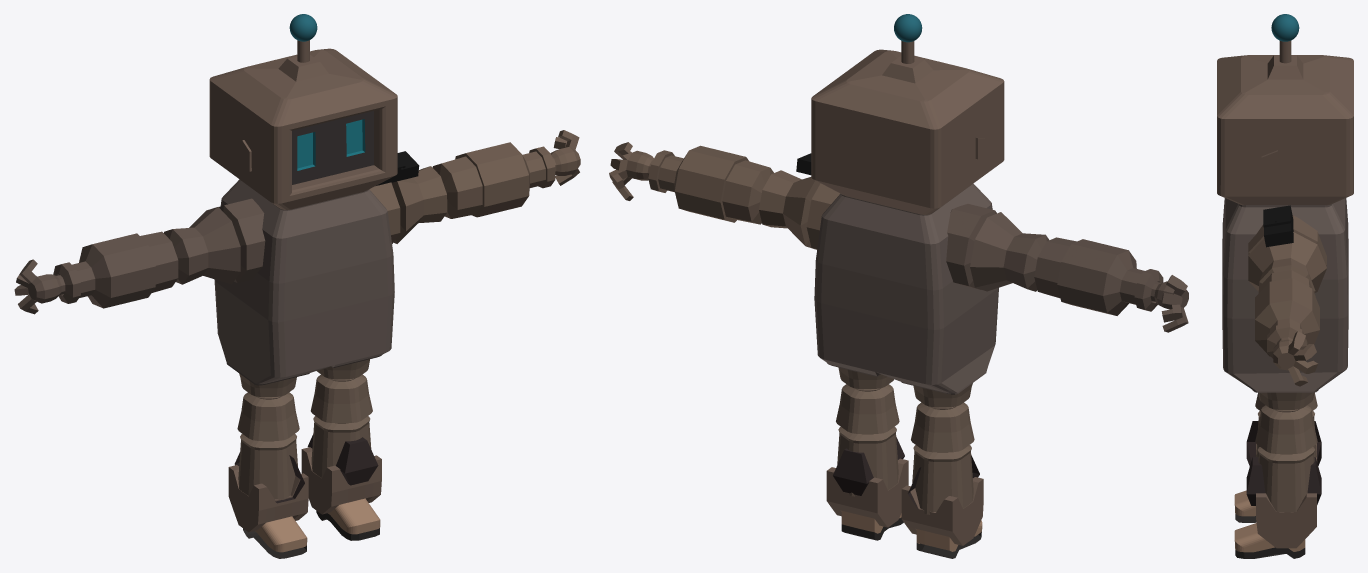
Rendered from Protagonista.glb.
The picture shows the model from 3 angles, left to right: view 1: azimuth 30°, elevation 25°; view 2: azimuth 150°, elevation 25°; view 3: azimuth 270°, elevation 25°; orthographic projection. The views are drawn at different scales.
Parts seen in each view (by area): view 1: Esfera; view 2: Esfera; view 3: Esfera.
Boxes of the visible parts, x1=… form: Esfera: x1=14, y1=14, x2=580, y2=558; Esfera: x1=609, y1=14, x2=1188, y2=558; Esfera: x1=1217, y1=14, x2=1353, y2=558.
Size of the model in its own units: 9.11 by 8 by 1.92.
